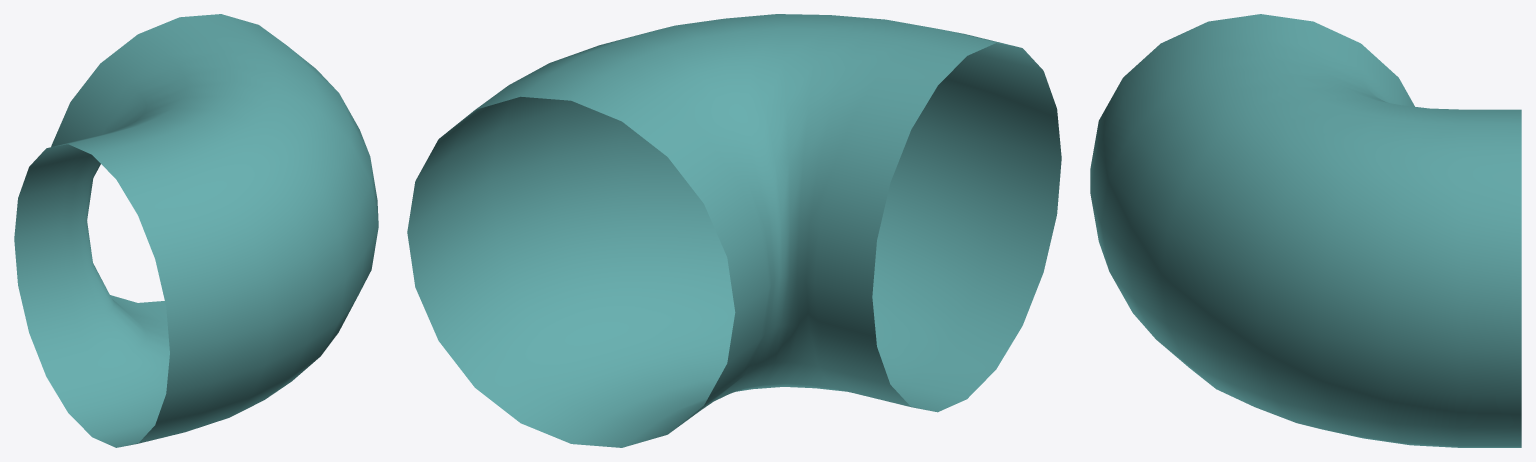
The model's file is SM_Pipes_CurveLeft.fbx.
3 views of the same model, side by side, from view 1: azimuth 30°, elevation 25°; view 2: azimuth 150°, elevation 25°; view 3: azimuth 270°, elevation 25° (orthographic). The views are drawn at different scales.
Visible parts, largest first — view 1: SM_Pipes_CurveLeft; view 2: SM_Pipes_CurveLeft; view 3: SM_Pipes_CurveLeft.
Part boxes in pixels (<box>): SM_Pipes_CurveLeft: <box>14,14,378,447</box>; SM_Pipes_CurveLeft: <box>407,14,1061,447</box>; SM_Pipes_CurveLeft: <box>1090,14,1521,447</box>.
Bounding box in the file's own units: 413 × 327 × 413.
